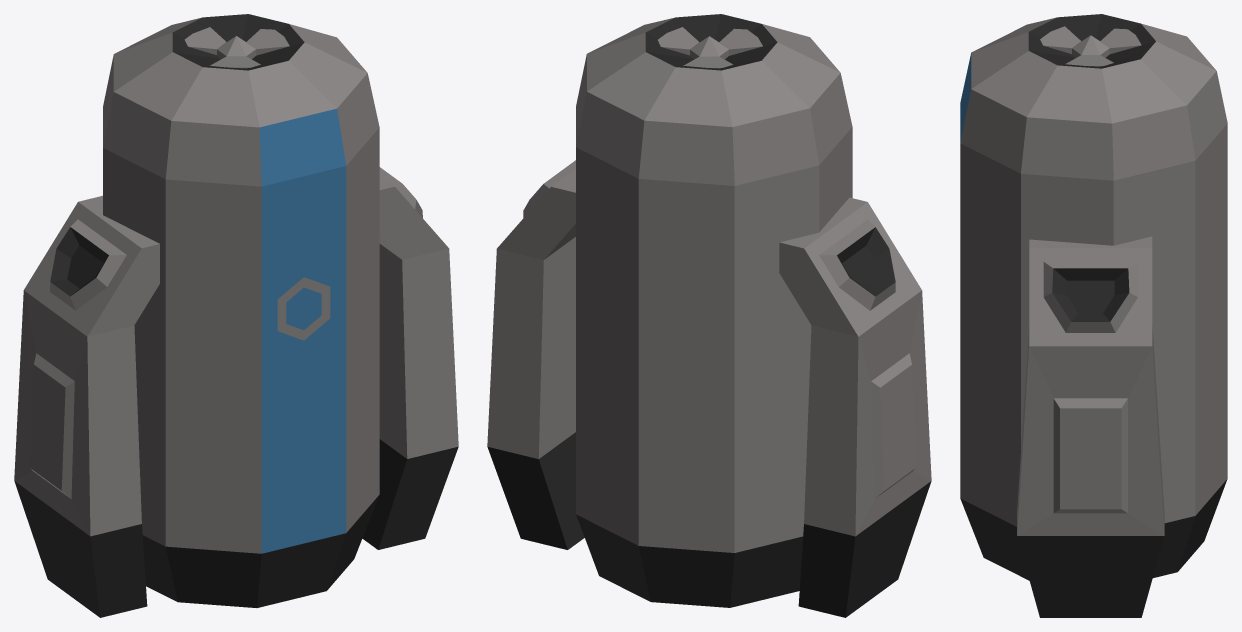
File: scifi-oxygen-generator.glb
The picture shows the model from 3 angles, left to right: view 1: azimuth 30°, elevation 25°; view 2: azimuth 150°, elevation 25°; view 3: azimuth 270°, elevation 25°; orthographic projection. The views are drawn at different scales.
Parts seen in each view (by area): view 1: scifi-oxygen-generator; view 2: scifi-oxygen-generator; view 3: scifi-oxygen-generator.
Part boxes in pixels (<box>): scifi-oxygen-generator: <box>14,14,458,617</box>; scifi-oxygen-generator: <box>487,14,931,617</box>; scifi-oxygen-generator: <box>960,14,1227,617</box>.
Bounding box in the file's own units: 1.62 × 2.13 × 1.02.
1 material, 1 textured.
